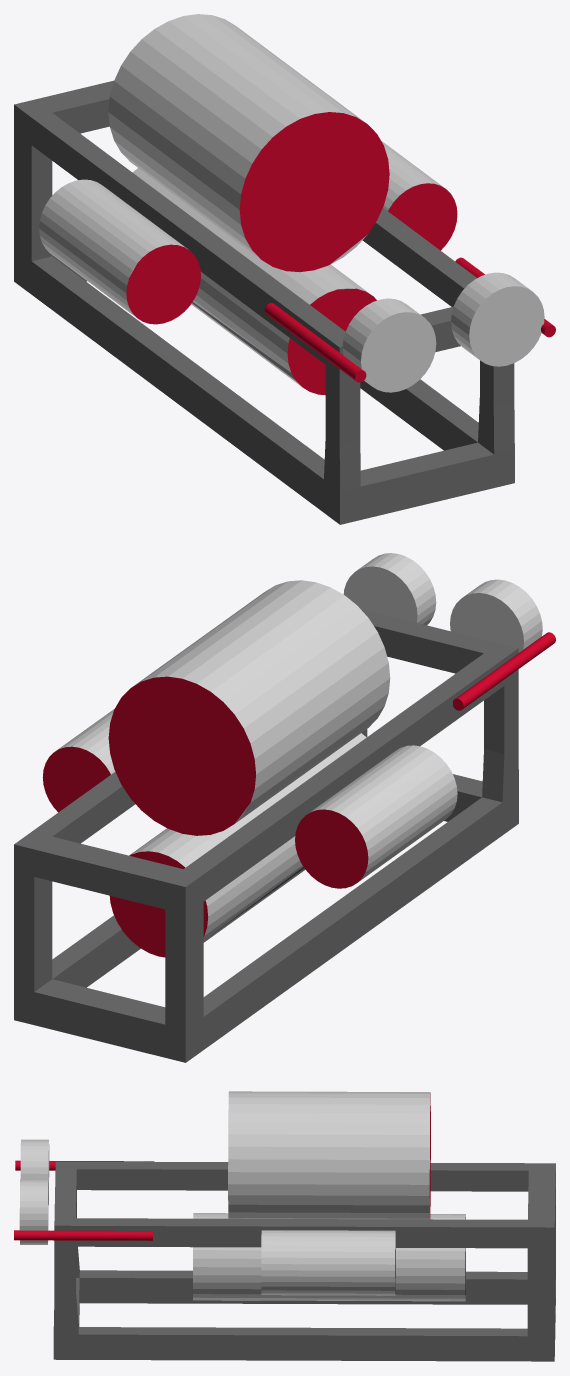
Rendered from RobotColorGazebo.dae.
The picture shows the model from 3 angles, top to bottom: view 1: azimuth 30°, elevation 25°; view 2: azimuth 150°, elevation 25°; view 3: azimuth 270°, elevation 25°; orthographic projection. The views are drawn at different scales.
Visible parts, largest first — view 1: Cylinder_002; view 2: Cylinder_002; view 3: Cylinder_002.
Part boxes in pixels (box(x1,y1,x2,y2)): Cylinder_002: box(14, 14, 555, 524); Cylinder_002: box(14, 553, 555, 1062); Cylinder_002: box(14, 1091, 555, 1361).
Bounding box in the file's own units: 45.72 × 85.68 × 40.31.
